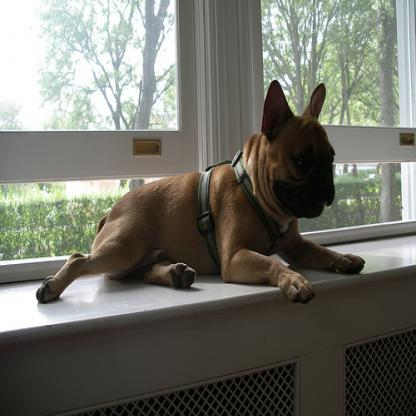French_bulldog: (33, 73, 367, 305)
